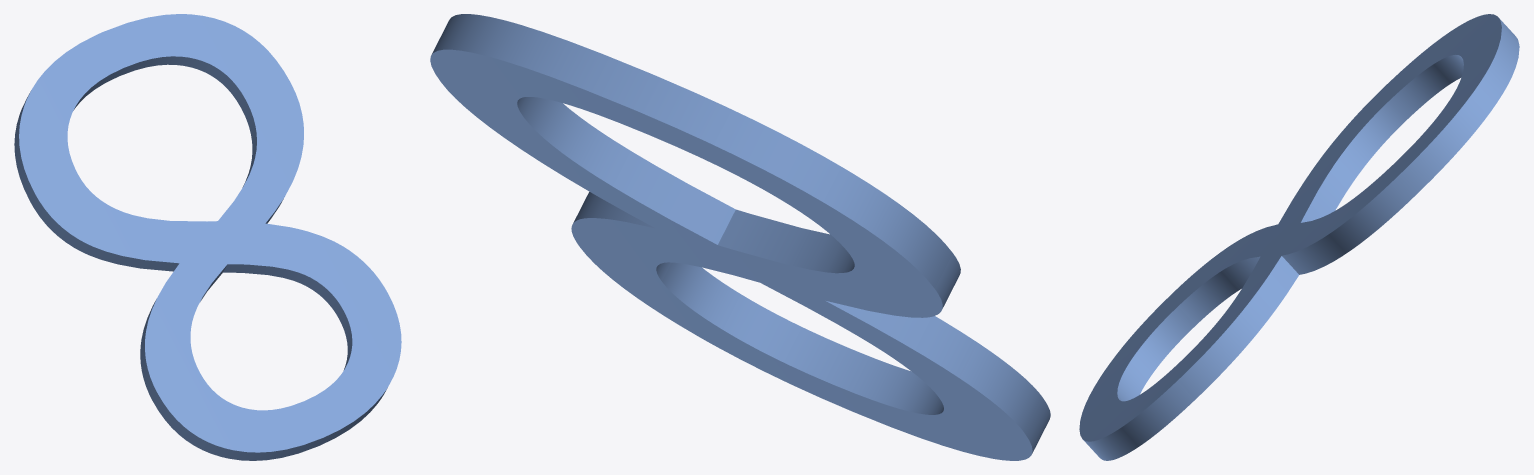
The model's file is New_Number_8.gltf.
3 views of the same model, side by side, from view 1: azimuth 30°, elevation 25°; view 2: azimuth 150°, elevation 25°; view 3: azimuth 270°, elevation 25° (orthographic). The views are drawn at different scales.
Parts seen in each view (by area): view 1: Part 206; view 2: Part 206; view 3: Part 206.
Boxes of the visible parts, x1=… form: Part 206: x1=14, y1=14, x2=401, y2=460; Part 206: x1=430, y1=14, x2=1050, y2=460; Part 206: x1=1079, y1=14, x2=1519, y2=460.
Size of the model in its own units: 0.00379 by 0.00421 by 0.00421.
